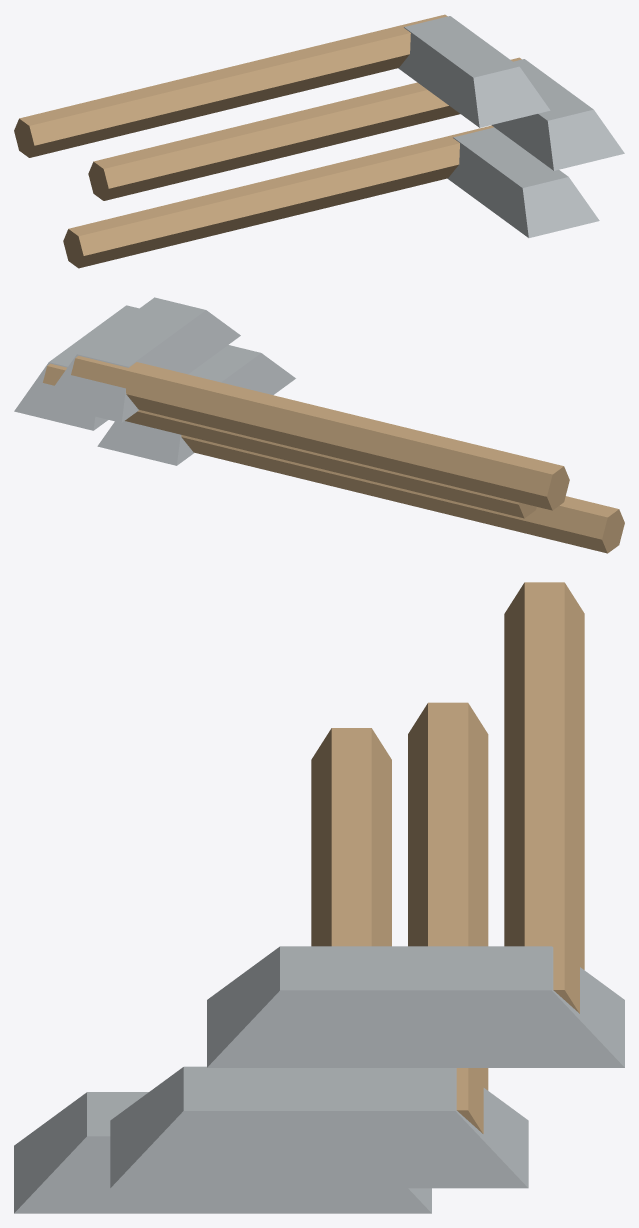
Rendered from item_052_adze_m.glb.
The picture shows the model from 3 angles, top to bottom: view 1: azimuth 30°, elevation 25°; view 2: azimuth 150°, elevation 25°; view 3: azimuth 270°, elevation 25°; orthographic projection. The views are drawn at different scales.
Visible parts, largest first — view 1: item_052_adze_m; view 2: item_052_adze_m; view 3: item_052_adze_m.
Part boxes in pixels (x1=…): item_052_adze_m: x1=14, y1=14, x2=624, y2=268; item_052_adze_m: x1=14, y1=297, x2=624, y2=553; item_052_adze_m: x1=14, y1=582, x2=624, y2=1213.
Bounding box in the file's own units: 0.69 × 0.145 × 0.38.
